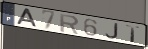6: (83, 18, 99, 38)
7: (41, 9, 57, 32)
A: (16, 8, 39, 28)
J: (104, 23, 120, 41)
R: (60, 13, 81, 36)
T: (126, 25, 142, 45)
